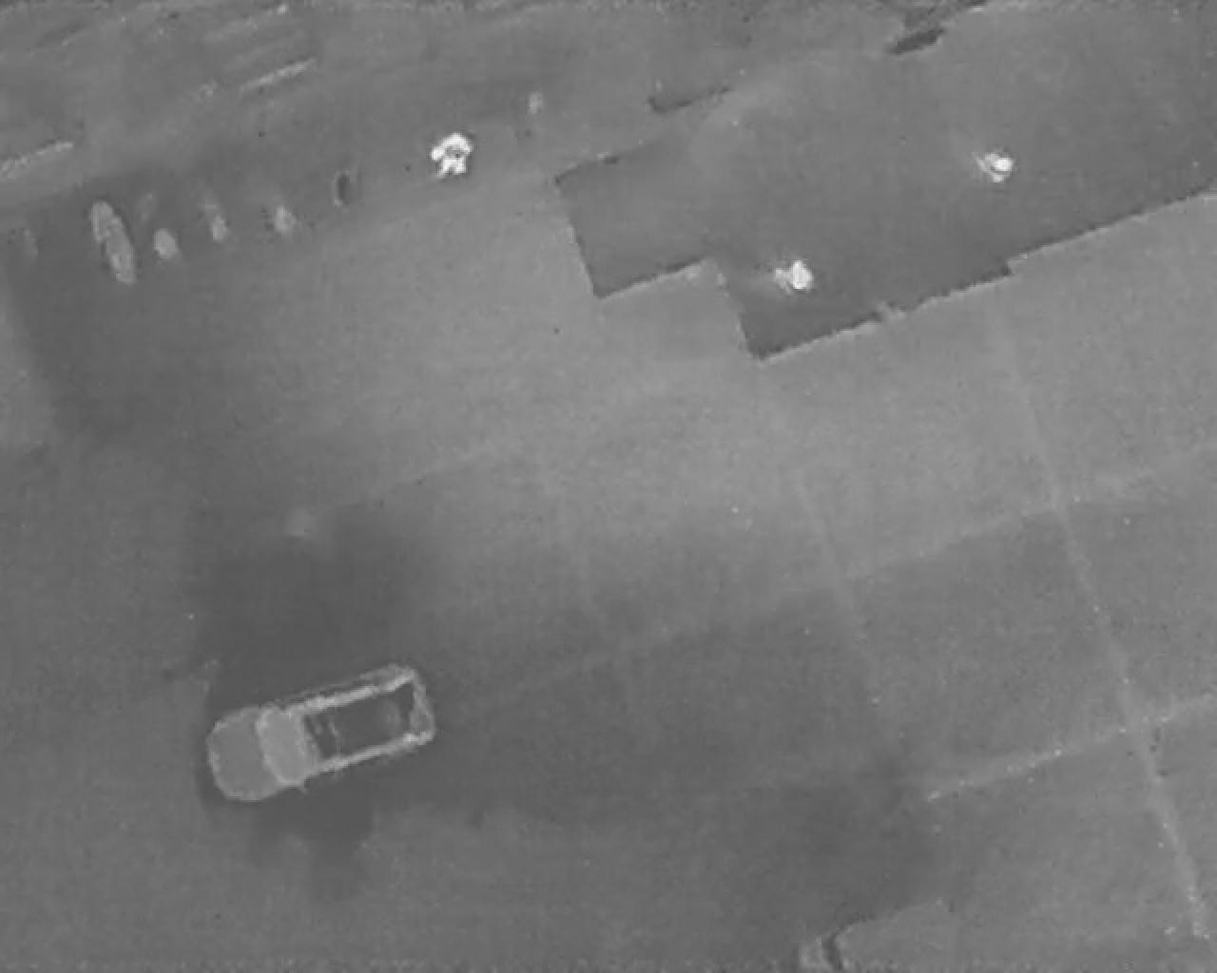person: (425, 126, 478, 185), (765, 250, 821, 303), (969, 145, 1018, 191)
